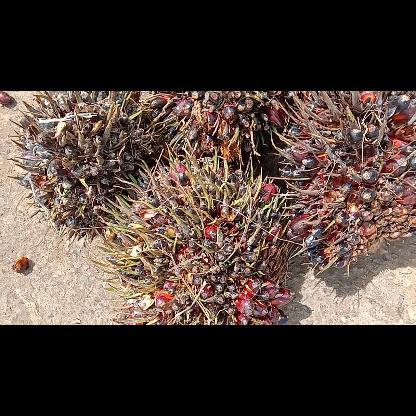TBS abnormal: (93, 156, 293, 324), (284, 91, 414, 279), (15, 90, 153, 235), (144, 91, 290, 164)
